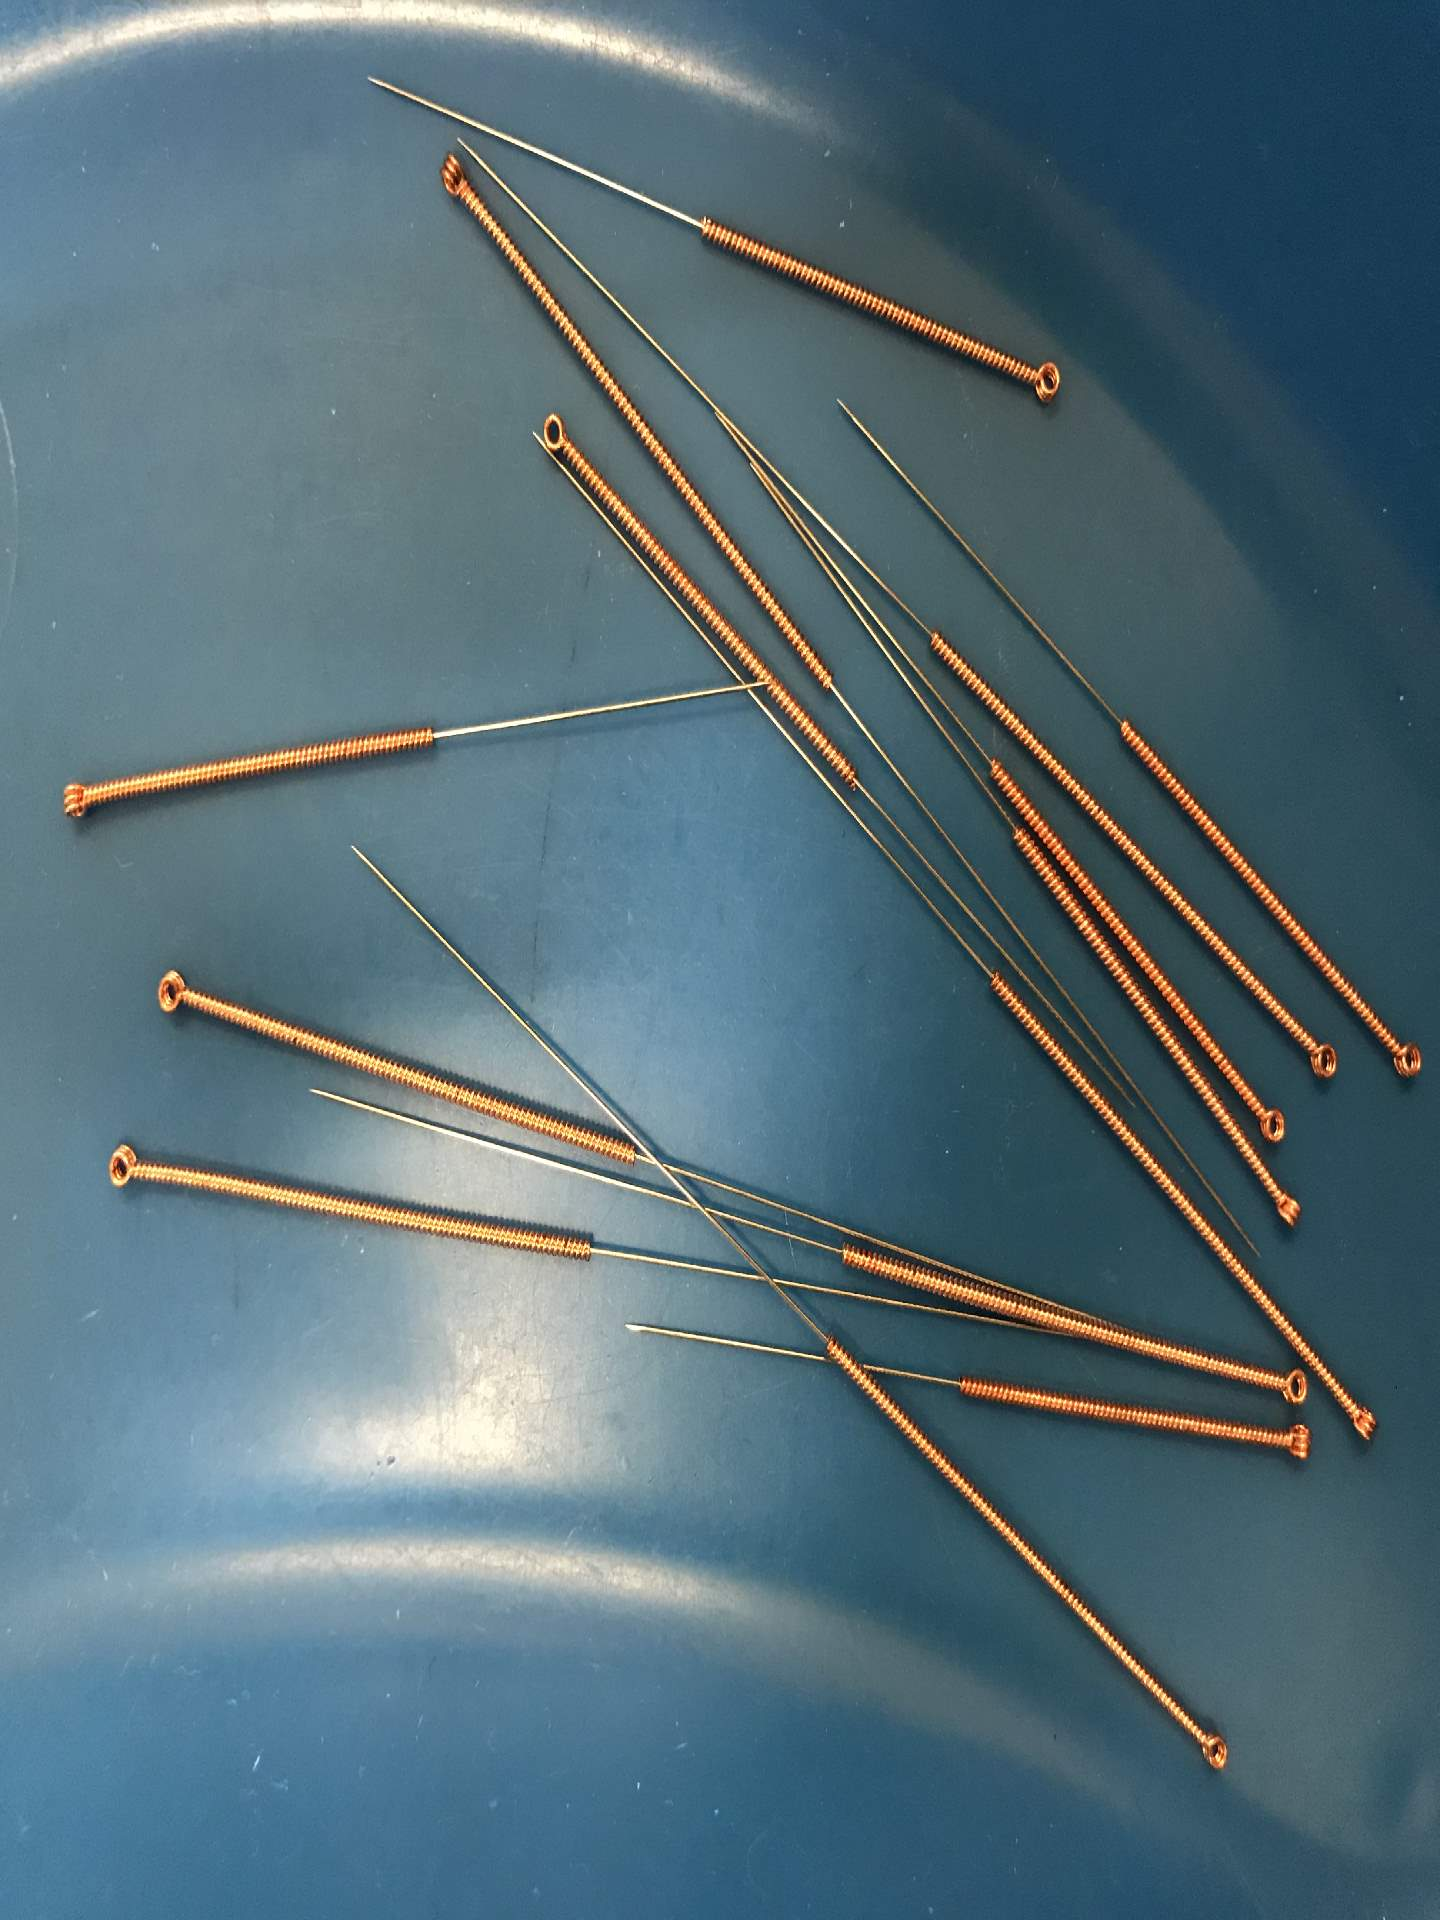needle: (1369, 1016, 1435, 1098), (1006, 342, 1077, 417), (91, 1131, 157, 1209), (138, 955, 203, 1031), (48, 760, 113, 835), (425, 135, 481, 216), (1292, 1027, 1355, 1093), (1331, 1383, 1389, 1454), (1181, 1717, 1240, 1785), (528, 396, 584, 467), (1248, 1090, 1296, 1154), (1262, 1176, 1310, 1240), (1271, 1412, 1319, 1473), (1268, 1364, 1317, 1417)
